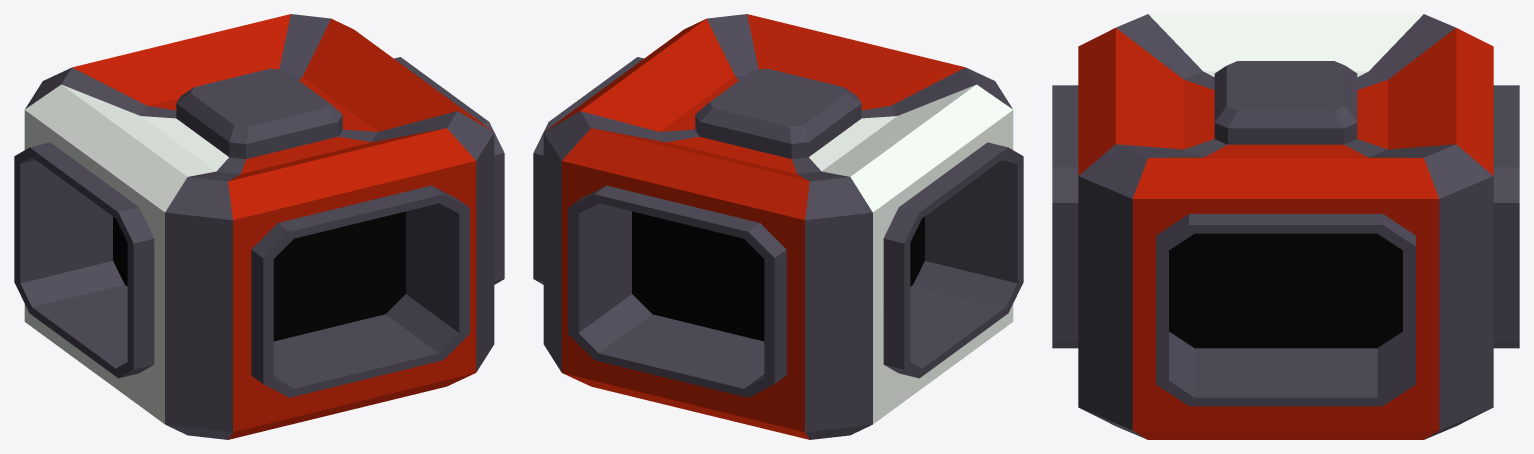
File: SplitterAndMerger.fbx
3 renders of one model, left to right at view 1: azimuth 30°, elevation 25°; view 2: azimuth 150°, elevation 25°; view 3: azimuth 270°, elevation 25°, orthographic. The views are drawn at different scales.
Parts seen in each view (by area): view 1: SplitterMerger; view 2: SplitterMerger; view 3: SplitterMerger.
Boxes of the visible parts, x1,y1,x2,y2 form: SplitterMerger: (14, 14, 504, 439); SplitterMerger: (533, 14, 1023, 439); SplitterMerger: (1052, 14, 1519, 439).
Size of the model in its own units: 4.51 by 3 by 4.51.
